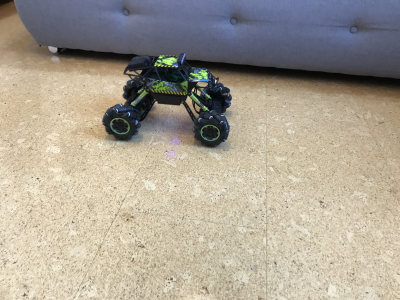remote control car: (97, 49, 235, 148)
